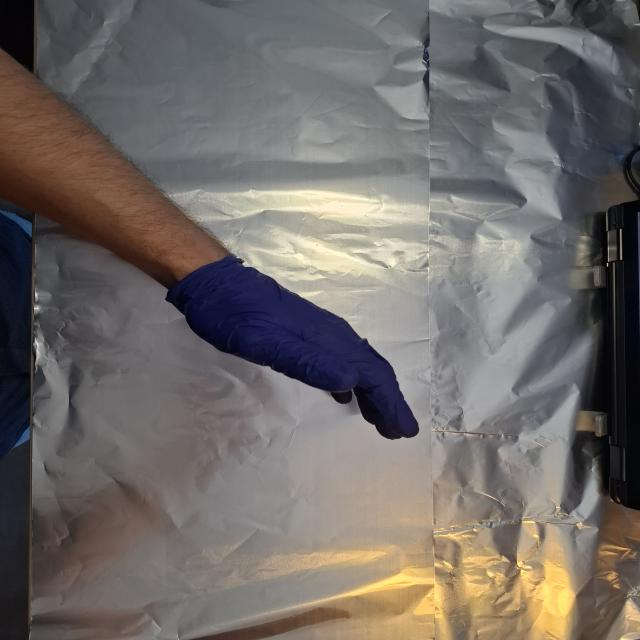glove_on: (168, 253, 422, 442)
